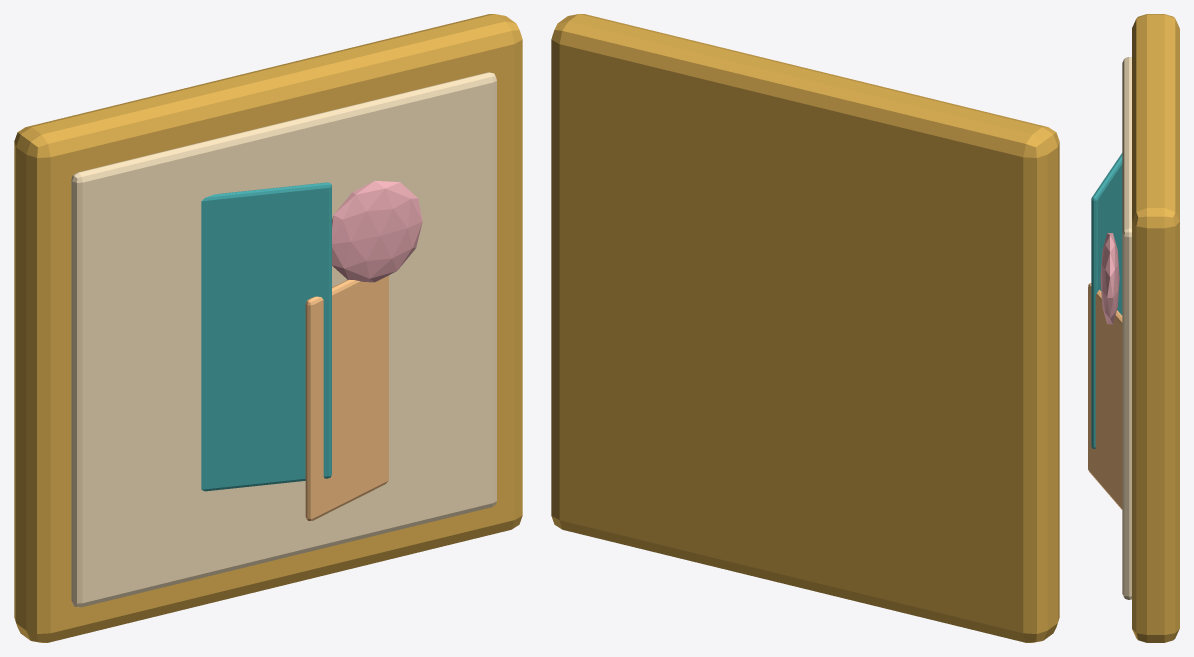
Rendered from ModernPainting.fbx.
3 renders of one model, left to right at view 1: azimuth 30°, elevation 25°; view 2: azimuth 150°, elevation 25°; view 3: azimuth 270°, elevation 25°, orthographic. The views are drawn at different scales.
Visible parts, largest first — view 1: Painting_Canvas, Painting_Frame, Painting_Teal, Painting_Orange, Painting_Sun; view 2: Painting_Frame; view 3: Painting_Frame, Painting_Orange, Painting_Canvas, Painting_Teal, Painting_Sun.
Boxes of the visible parts, x1=… form: Painting_Canvas: x1=71, y1=72, x2=496, y2=607; Painting_Frame: x1=14, y1=14, x2=522, y2=642; Painting_Teal: x1=201, y1=182, x2=331, y2=491; Painting_Orange: x1=305, y1=275, x2=388, y2=521; Painting_Sun: x1=332, y1=181, x2=422, y2=282; Painting_Frame: x1=551, y1=14, x2=1059, y2=642; Painting_Frame: x1=1132, y1=14, x2=1179, y2=642; Painting_Orange: x1=1088, y1=283, x2=1122, y2=509; Painting_Canvas: x1=1122, y1=57, x2=1131, y2=599; Painting_Teal: x1=1091, y1=153, x2=1122, y2=448; Painting_Sun: x1=1100, y1=233, x2=1119, y2=324.
Size of the model in its own units: 112 by 110 by 21.04.
